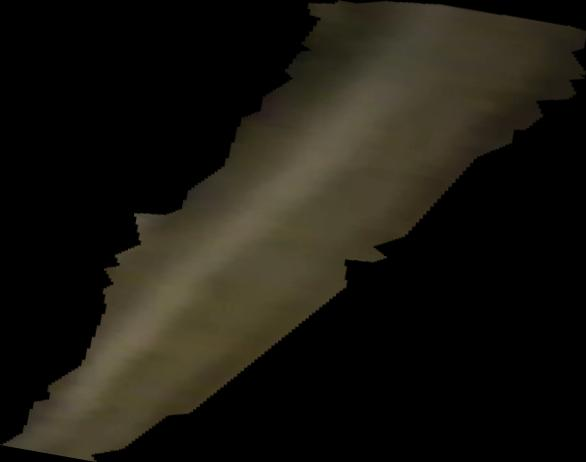backward: (1, 1, 586, 462)
